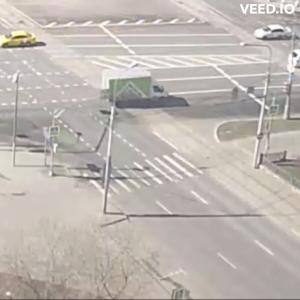car: (95, 66, 177, 108), (1, 30, 39, 49), (256, 25, 295, 42)
